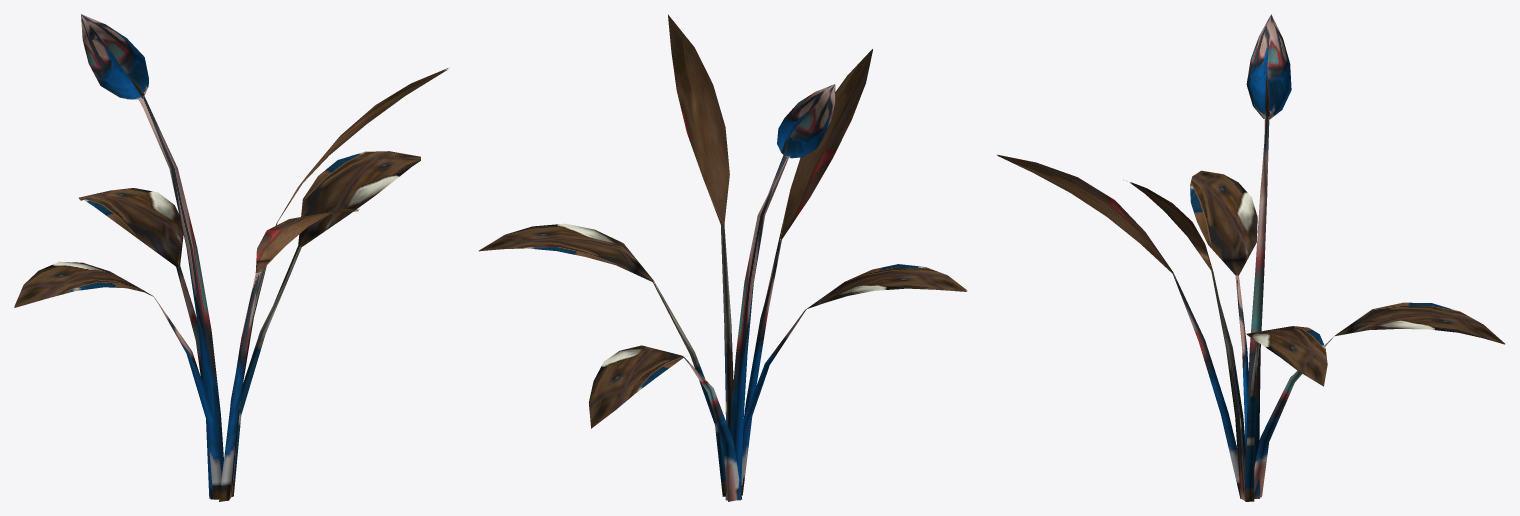
The model's file is list.ico.obj.
The picture shows the model from 3 angles, left to right: view 1: azimuth 30°, elevation 25°; view 2: azimuth 150°, elevation 25°; view 3: azimuth 270°, elevation 25°; orthographic projection. The views are drawn at different scales.
Size of the model in its own units: 4.43 by 4.47 by 4.79.
